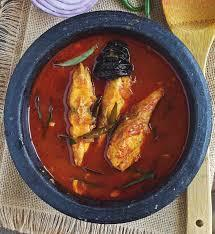Fish Curry: (46, 32, 179, 199)
